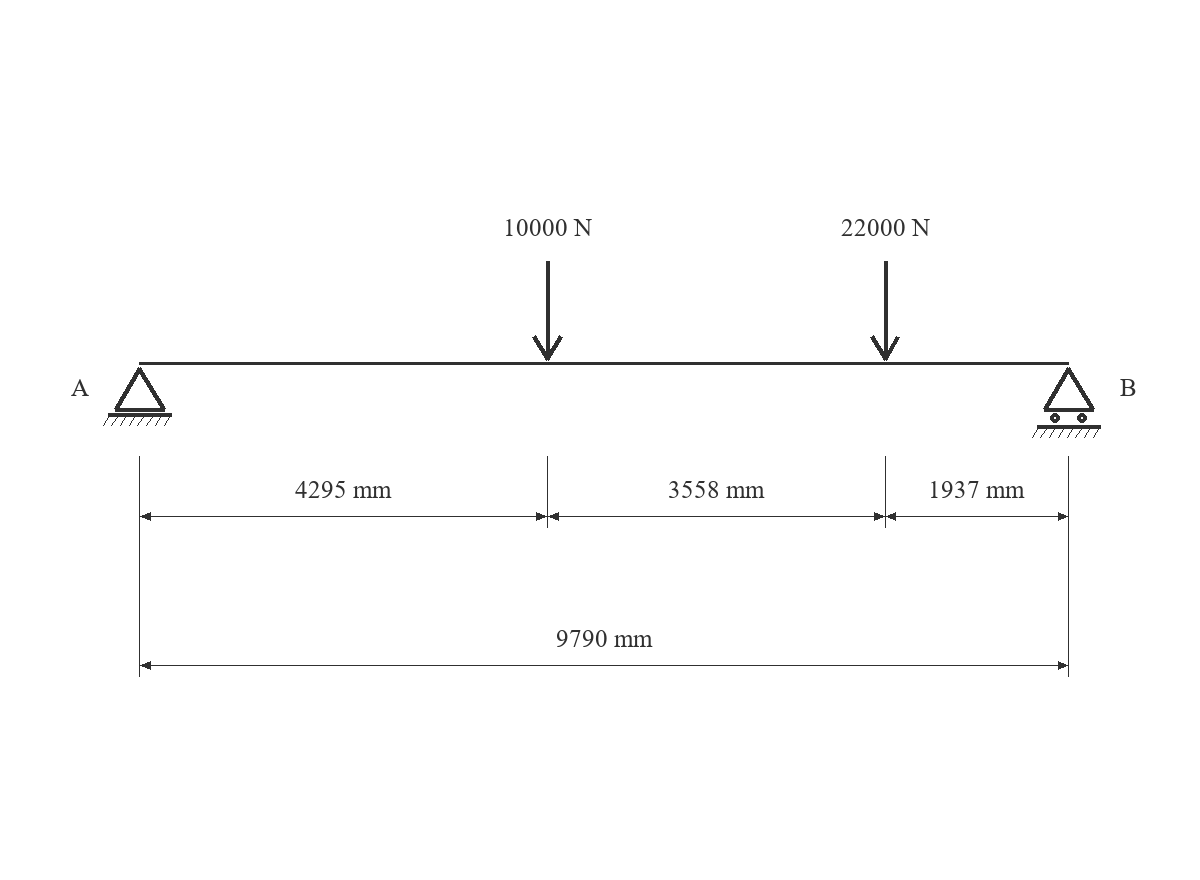pin_support: (103, 367, 172, 426)
point_load: (532, 261, 563, 361), (870, 261, 900, 361)
roller_support: (1032, 367, 1101, 438)
